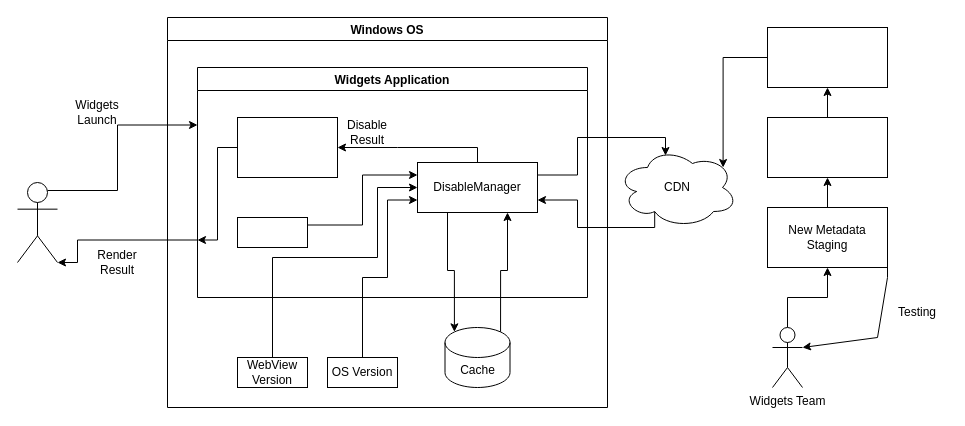
This 965x426 diagram has some shape labels left out. Each missing label, with the centre of its shape:
"Rendering State Machine" goes at [287,147].
"Signoff" goes at [827,147].
"User" goes at [37,222].
"WebXT Hosting Service" goes at [827,57].
"Widgets Version" goes at [272,232].
